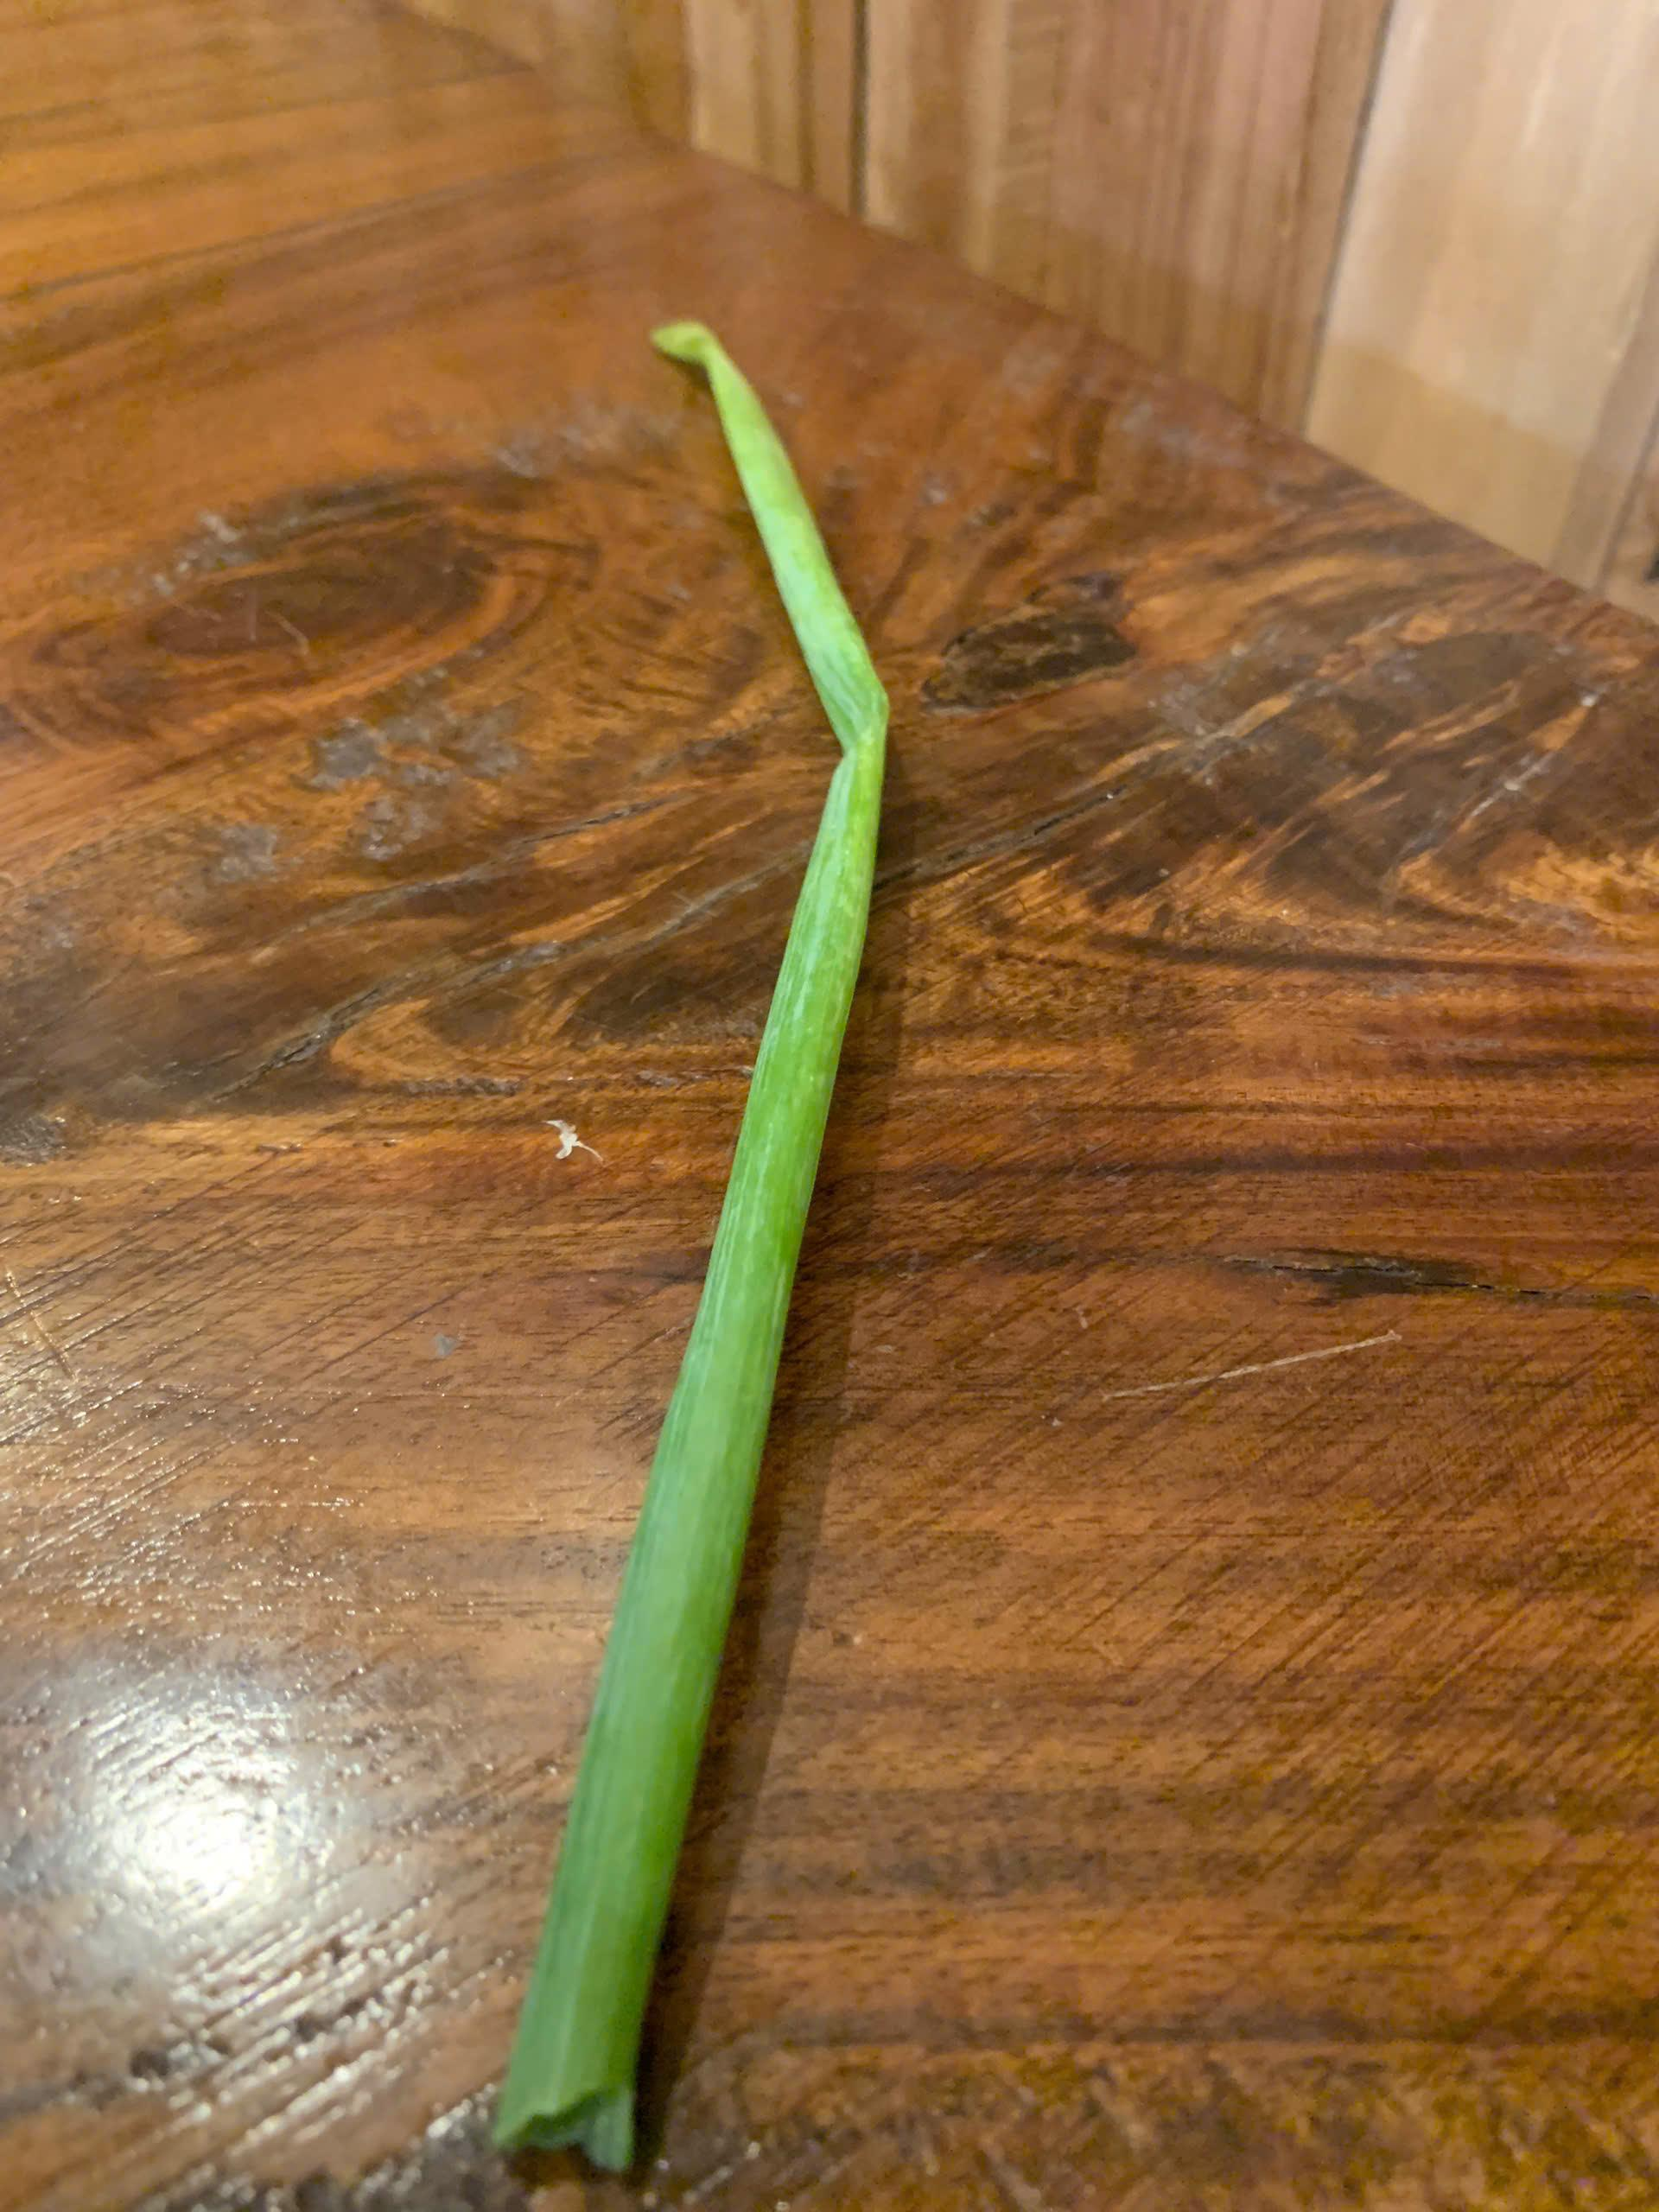Huu co: (505, 326, 910, 2168)
